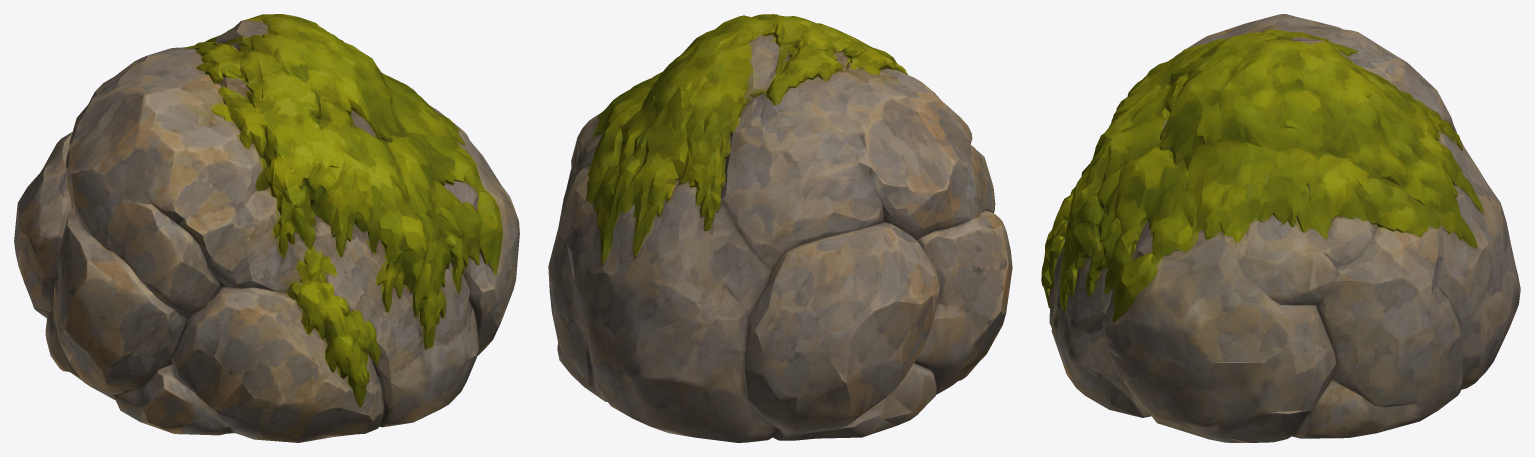
Rendered from moss-crowned-boulder.glb.
3 renders of one model, left to right at view 1: azimuth 30°, elevation 25°; view 2: azimuth 150°, elevation 25°; view 3: azimuth 270°, elevation 25°, orthographic.
Visible parts, largest first — view 1: output_unwrapped; view 2: output_unwrapped; view 3: output_unwrapped.
Boxes of the visible parts, x1,y1,x2,y2 form: output_unwrapped: [14, 14, 519, 442]; output_unwrapped: [548, 14, 1012, 442]; output_unwrapped: [1041, 14, 1520, 442].
Size of the model in its own units: 1.78 by 1.3 by 1.74.
1 material, 1 textured.
